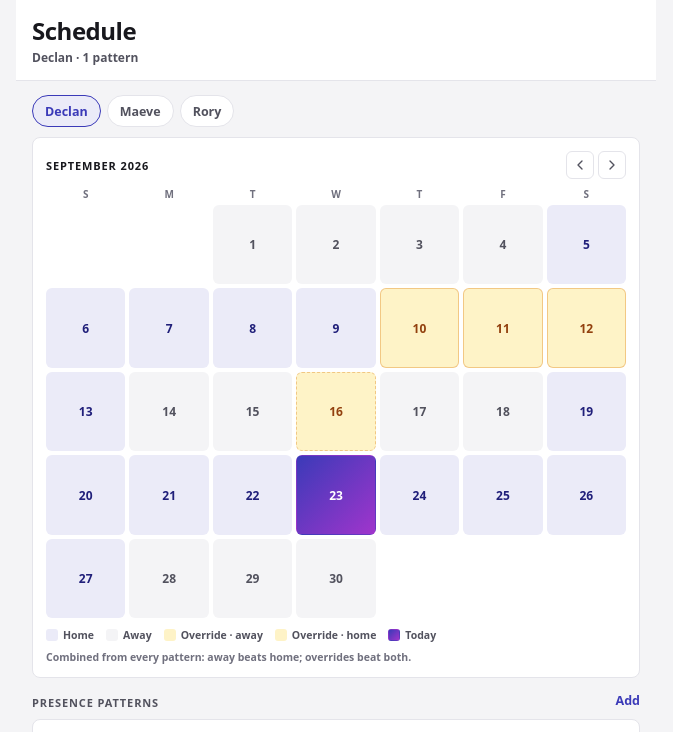
it: ScheduleTab › overrides card lists the selected child's overrides
Click the button "Maeve" at (140, 111), box [107,95,174,127]
(page scrolled)
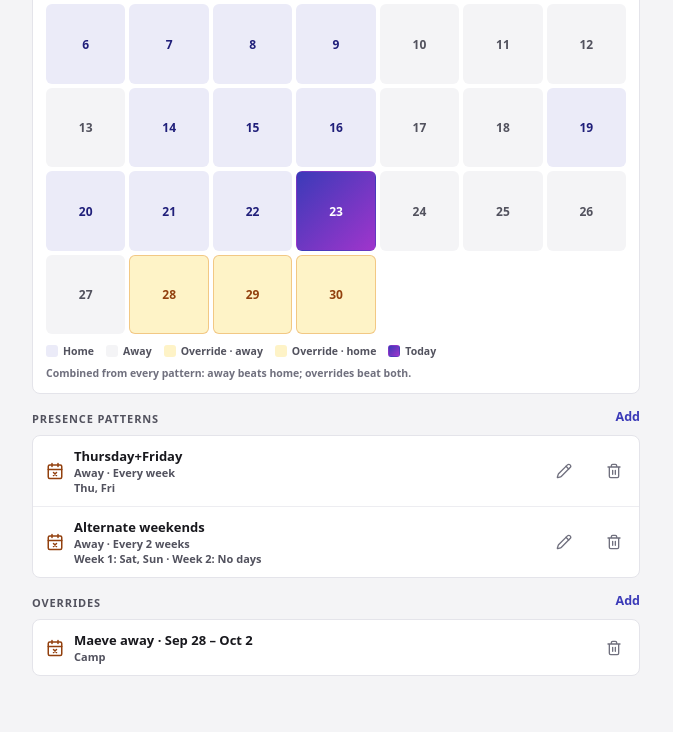
Expected: the text "Maeve away · Sep 28 – Oct 2" is shown, [74,631,253,649]
